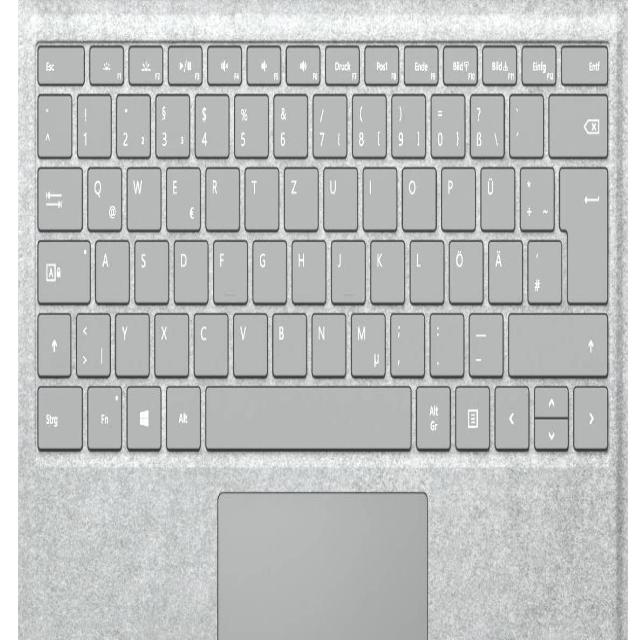0: (428, 87, 464, 157)
1: (74, 88, 109, 156)
2: (113, 88, 149, 156)
3: (152, 87, 188, 156)
4: (192, 87, 227, 155)
5: (231, 88, 267, 156)
6: (270, 87, 306, 155)
7: (310, 88, 345, 156)
8: (349, 88, 384, 156)
9: (388, 87, 424, 157)
a: (92, 233, 128, 302)
accent: (506, 87, 541, 155)
ae: (485, 234, 521, 302)
alt-left: (163, 379, 200, 448)
altgr-right: (413, 380, 450, 448)
b: (269, 306, 305, 374)
c: (191, 306, 227, 375)
caret: (34, 87, 69, 155)
comma: (387, 306, 423, 374)
d: (171, 234, 206, 302)
del: (546, 87, 607, 156)
e: (163, 160, 199, 229)
enter: (557, 161, 608, 305)
f: (210, 234, 245, 301)
g: (250, 234, 285, 301)
h: (289, 234, 324, 302)
hash: (525, 233, 560, 302)
i: (359, 160, 395, 228)
j: (328, 233, 363, 302)
k: (368, 233, 403, 301)
keyboard: (27, 30, 616, 467)
l: (407, 233, 442, 301)
less: (73, 306, 109, 375)
m: (348, 306, 384, 375)
minus: (465, 306, 502, 374)
n: (308, 306, 344, 375)
o: (399, 160, 435, 229)
oe: (446, 234, 481, 302)
p: (438, 160, 474, 229)
plus: (517, 160, 553, 229)
point: (427, 306, 463, 373)
q: (84, 161, 120, 229)
r: (202, 161, 238, 229)
s: (131, 234, 167, 302)
shift-left: (34, 306, 70, 375)
shift-lock: (33, 234, 89, 303)
shift-right: (505, 306, 608, 375)
space: (202, 379, 411, 450)
ss: (467, 87, 503, 156)
strg-left: (33, 379, 82, 449)
t: (242, 161, 277, 228)
tab: (34, 160, 81, 229)
u: (320, 161, 356, 229)
ue: (477, 161, 513, 229)
v: (230, 306, 265, 374)
w: (123, 160, 159, 229)
x: (152, 306, 187, 374)
y: (112, 306, 148, 374)
z: (281, 160, 316, 229)
